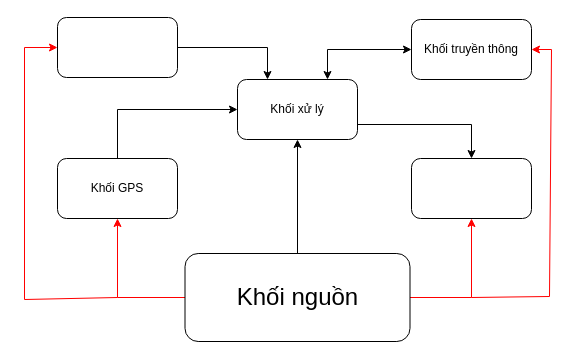
Some shapes in this 577 by 359 pixel diagram are drawn without their labels. Each missing label, with the centre of its shape:
Khối lưu trữ: point (471, 188)
Khối thời gian thực: point (117, 47)
